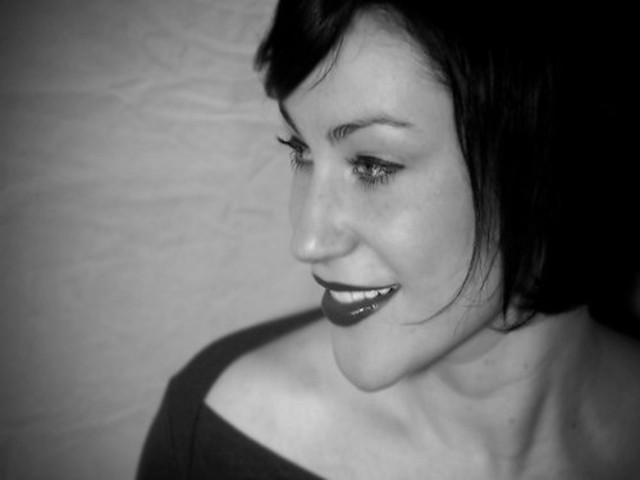Person: (141, 4, 638, 472)
